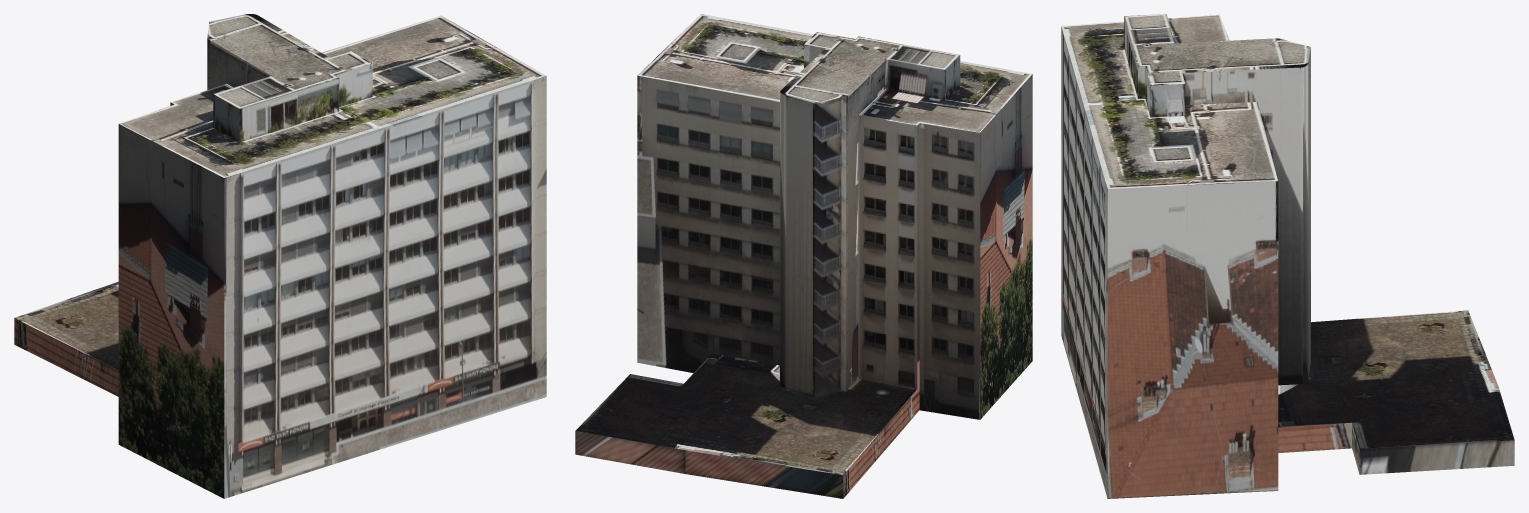
The picture shows the model from 3 angles, left to right: view 1: azimuth 30°, elevation 25°; view 2: azimuth 150°, elevation 25°; view 3: azimuth 270°, elevation 25°; orthographic projection. The views are drawn at different scales.
Parts seen in each view (by area): view 1: Z_UP; view 2: Z_UP; view 3: Z_UP.
Part boxes in pixels (bbox=[...]): Z_UP: bbox=[14, 14, 546, 498]; Z_UP: bbox=[575, 14, 1032, 498]; Z_UP: bbox=[1061, 14, 1514, 498].
Bounding box in the file's own units: 31.46 × 28.82 × 34.57.
Materials: 2 (1 with a texture image).
